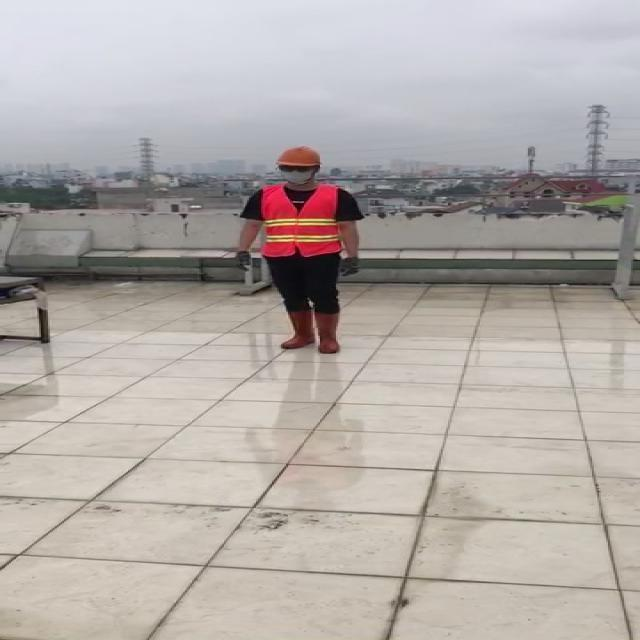helmet: (274, 145, 324, 167)
safety_vest: (260, 185, 344, 256)
